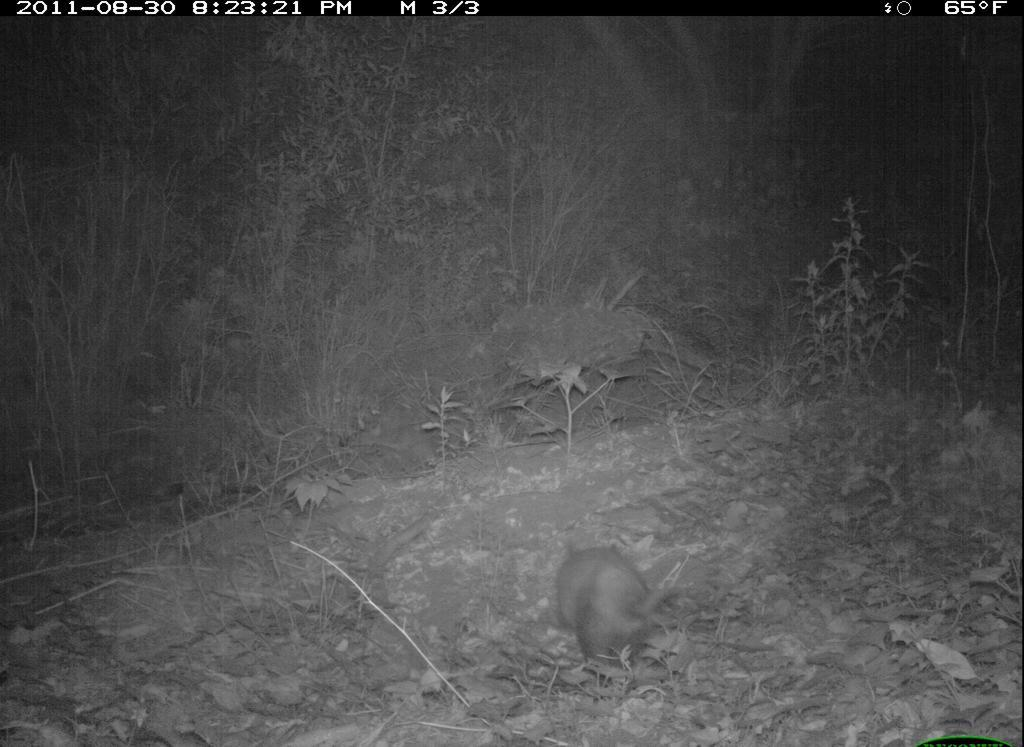opossum: (539, 538, 689, 685)
